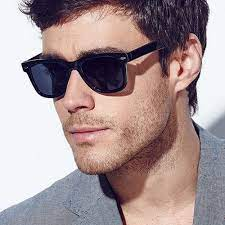g.y: (76, 52, 129, 94)
